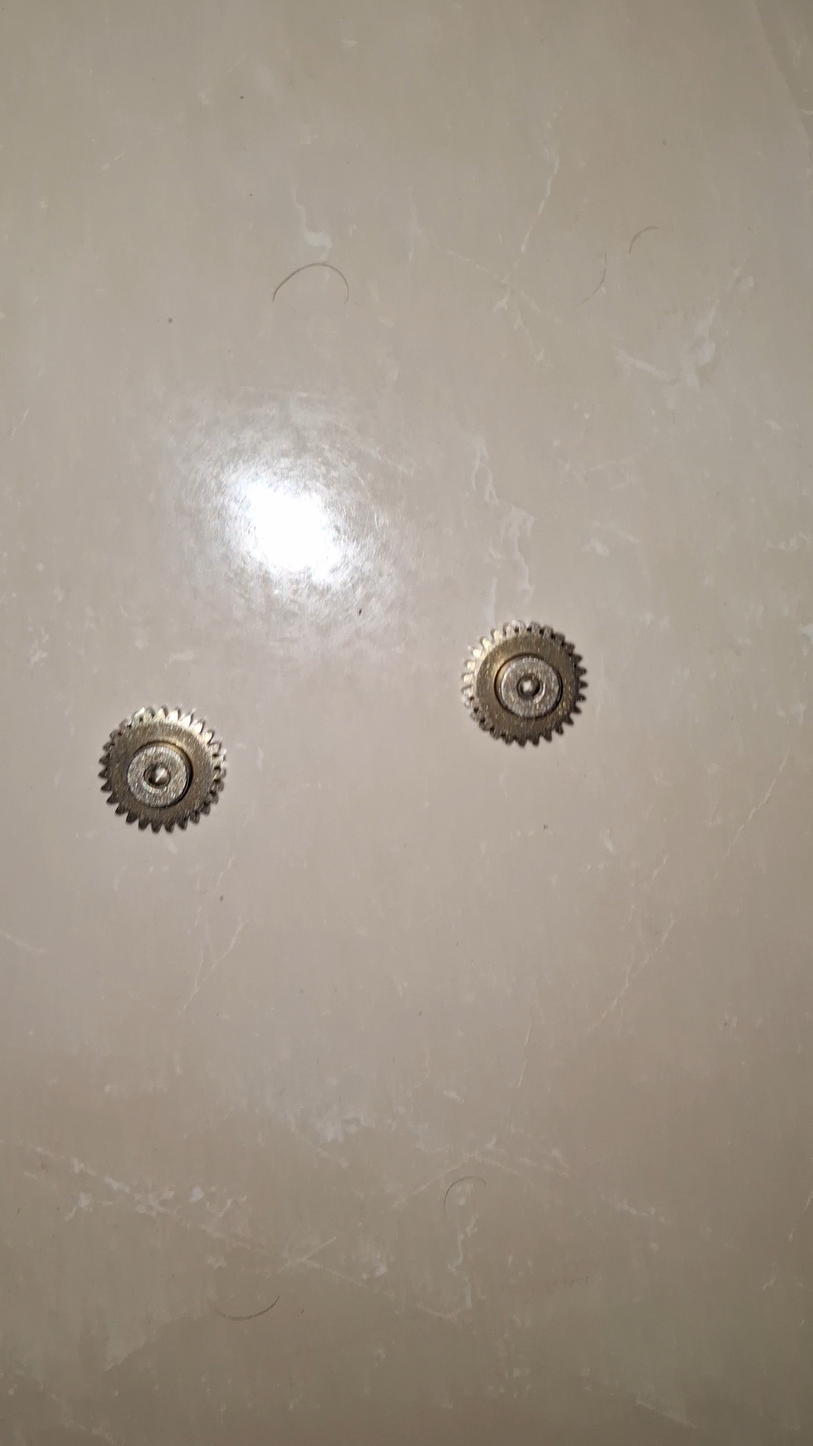spur gear: (100, 708, 225, 832), (462, 621, 585, 745)
